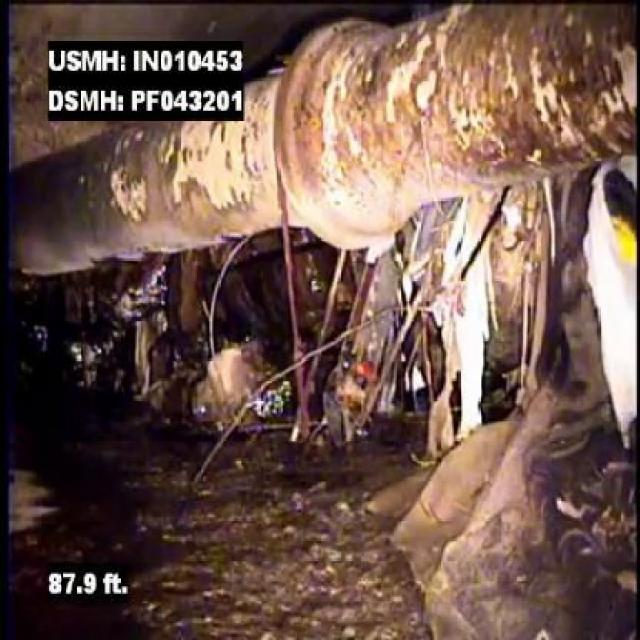Debris: (391, 363, 638, 634)
Utility intrusion: (8, 5, 635, 282)
